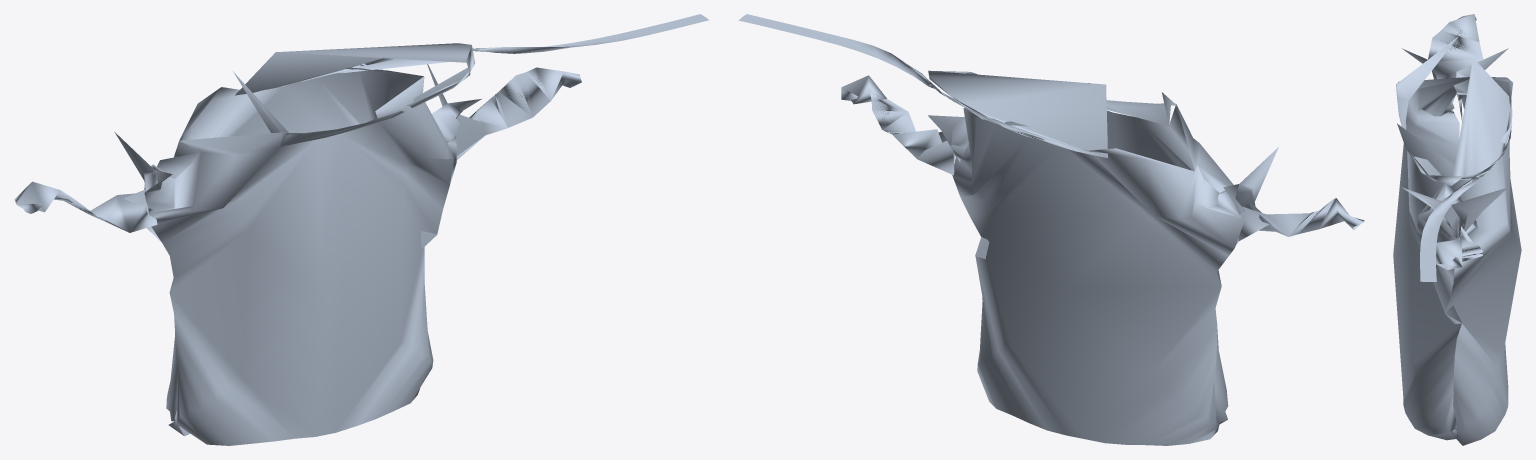
File: frame_002.glb
3 views of the same model, side by side, from view 1: azimuth 30°, elevation 25°; view 2: azimuth 150°, elevation 25°; view 3: azimuth 270°, elevation 25° (orthographic). The views are drawn at different scales.
Parts seen in each view (by area): view 1: panel.front, panel.back, panel.neck_band, panel.sleeve.right, panel.sleeve.left; view 2: panel.back, panel.neck_band, panel.front, panel.sleeve.right, panel.sleeve.left; view 3: panel.front, panel.back, panel.neck_band, panel.sleeve.left, panel.sleeve.right.
Boxes of the visible parts, <box> form: panel.front: <box>144,76,481,445</box>; panel.back: <box>114,64,456,435</box>; panel.neck_band: <box>233,14,708,146</box>; panel.sleeve.right: <box>456,67,581,160</box>; panel.sleeve.left: <box>14,181,157,232</box>; panel.back: <box>928,108,1244,445</box>; panel.neck_band: <box>738,14,1177,158</box>; panel.front: <box>954,83,1278,424</box>; panel.sleeve.right: <box>841,75,954,175</box>; panel.sleeve.left: <box>1238,198,1364,240</box>; panel.front: <box>1393,48,1471,440</box>; panel.back: <box>1444,48,1521,445</box>; panel.neck_band: <box>1396,36,1512,281</box>; panel.sleeve.left: <box>1428,14,1483,121</box>; panel.sleeve.right: <box>1436,219,1483,269</box>.
Size of the model in its own units: 1.51 by 0.7777 by 0.273.
